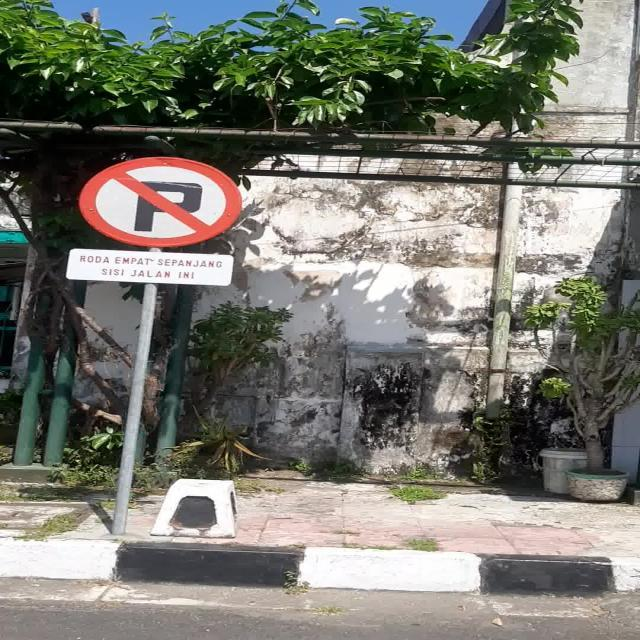Dilarang Parkir: (77, 156, 243, 247)
